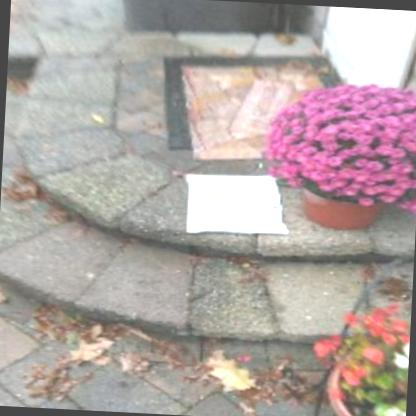plastic_bag: (185, 173, 290, 236)
